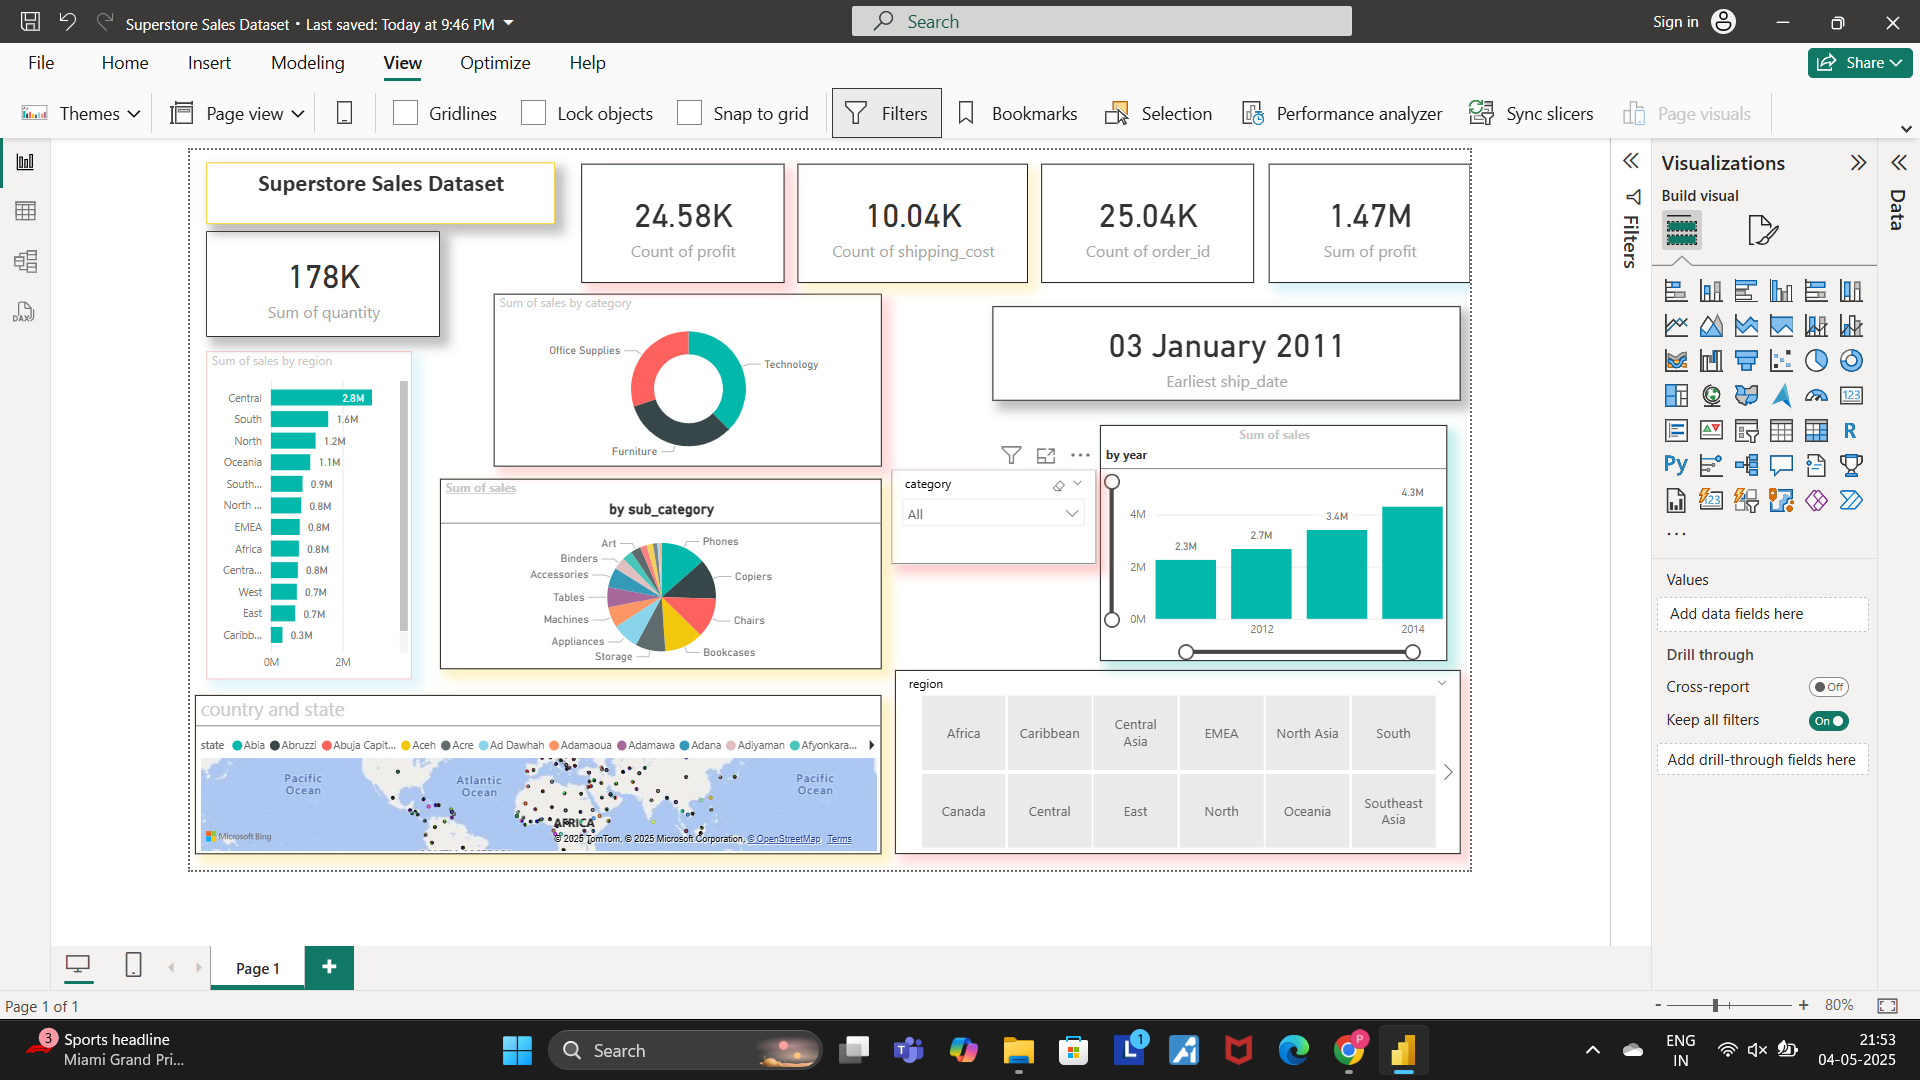

The dashboard page shown, as its layout file describes it:
{"tool":"powerbi","page":{"name":"Page 1","canvas":[1280,720],"ordinal":0},"visuals":[{"type":"barChart","fields":{"Y":["superstore_sales.sales"],"Category":["superstore_sales.region"]},"box":[16.5,201.7,205.8,328],"z":0},{"type":"donutChart","fields":{"Y":["superstore_sales.sales"],"Category":["superstore_sales.category"]},"box":[303.3,144.1,388.3,172.9],"z":1},{"type":"lineStackedColumnComboChart","fields":{"Y":["superstore_sales.sales"],"Category":["superstore_sales.year"]},"box":[909.8,274.4,347.2,236],"z":2},{"type":"slicer","fields":{"Values":["superstore_sales.category"]},"box":[701.2,319.7,204.5,94.7],"z":3},{"type":"slicer","fields":{"Values":["superstore_sales.region"]},"box":[705.3,520.1,565.4,183.9],"z":4},{"type":"card","fields":{"Values":["superstore_sales.shipping_cost"]},"box":[607.9,13.7,230.5,119.4],"z":5},{"type":"card","fields":{"Values":["superstore_sales.quantity"]},"box":[16.5,81,233.3,105.7],"z":6},{"type":"map","fields":{"Series":["superstore_sales.state"],"Category":["superstore_sales.country"]},"box":[5.5,544.8,686.1,159.2],"z":7},{"type":"card","fields":{"Values":["superstore_sales.ship_date"]},"box":[802.7,156.4,467.9,94.7],"z":9},{"type":"card","fields":{"Values":["superstore_sales.profit"]},"box":[391.1,13.7,203.1,119.4],"z":10},{"type":"pieChart","fields":{"Y":["superstore_sales.sales"],"Category":["superstore_sales.sub_category"]},"box":[249.7,329.3,441.9,190.7],"z":11},{"type":"card","fields":{"Values":["superstore_sales.profit"]},"box":[1078.6,13.7,201.7,119.4],"z":12},{"type":"card","fields":{"Values":["superstore_sales.order_id"]},"box":[850.8,13.7,212.7,119.4],"z":13},{"type":"textbox","box":[16.5,12.3,348.5,61.7],"z":14}]}

Visuals, with their boxes in screenshot pixels (x1, y1, x2, y2):
barChart - superstore_sales.sales x superstore_sales.region: box(0, 298, 207, 766)
donutChart - superstore_sales.sales x superstore_sales.category: box(323, 216, 877, 462)
lineStackedColumnComboChart - superstore_sales.sales x superstore_sales.year: box(1188, 402, 1684, 738)
slicer - superstore_sales.category: box(890, 466, 1182, 601)
slicer - superstore_sales.region: box(896, 752, 1703, 1014)
card - superstore_sales.shipping_cost: box(757, 30, 1086, 200)
card - superstore_sales.quantity: box(0, 126, 246, 276)
map - superstore_sales.state x superstore_sales.country: box(0, 787, 877, 1014)
card - superstore_sales.ship_date: box(1035, 233, 1703, 368)
card - superstore_sales.profit: box(448, 30, 738, 200)
pieChart - superstore_sales.sales x superstore_sales.sub_category: box(246, 480, 877, 752)
card - superstore_sales.profit: box(1429, 30, 1717, 200)
card - superstore_sales.order_id: box(1104, 30, 1407, 200)
textbox: box(0, 28, 411, 116)
